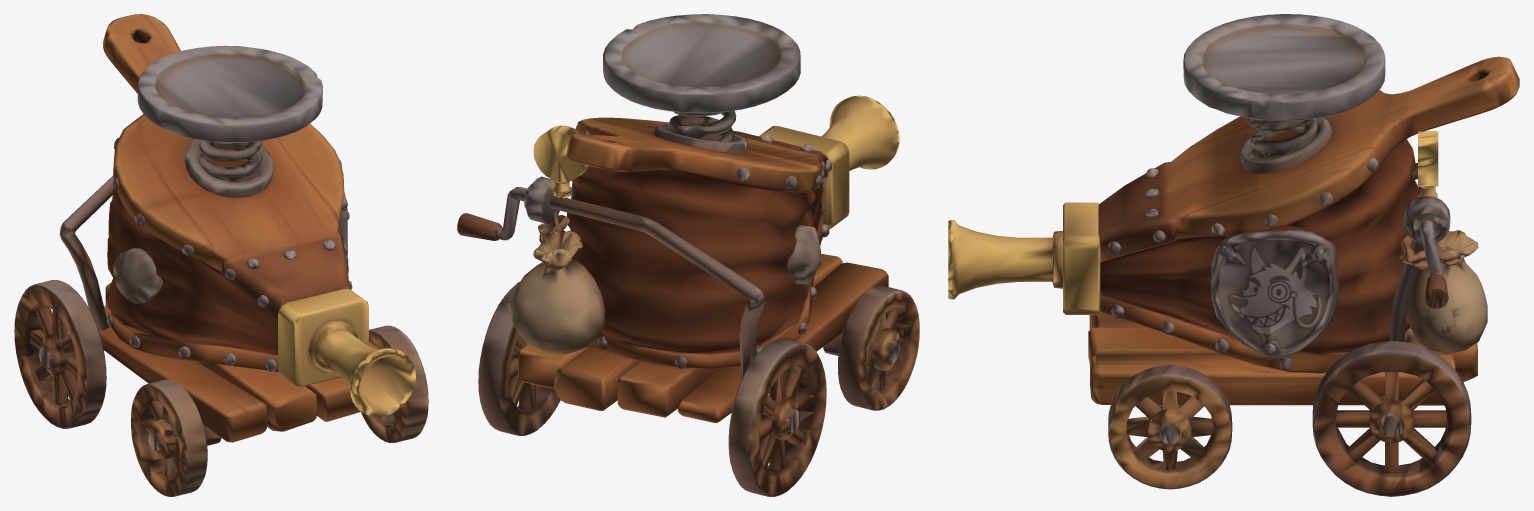
File: bellows_machine_v2.glb
The picture shows the model from 3 angles, left to right: view 1: azimuth 30°, elevation 25°; view 2: azimuth 150°, elevation 25°; view 3: azimuth 270°, elevation 25°; orthographic projection. The views are drawn at different scales.
Visible parts, largest first — view 1: bellows_machine_v2; view 2: bellows_machine_v2; view 3: bellows_machine_v2.
Part boxes in pixels (x1,y1,x2,y2): bellows_machine_v2: (14, 14, 428, 496); bellows_machine_v2: (457, 14, 919, 496); bellows_machine_v2: (948, 14, 1519, 496).
Size of the model in its own units: 2.83 by 3.2 by 4.4.
1 material, 1 textured.
